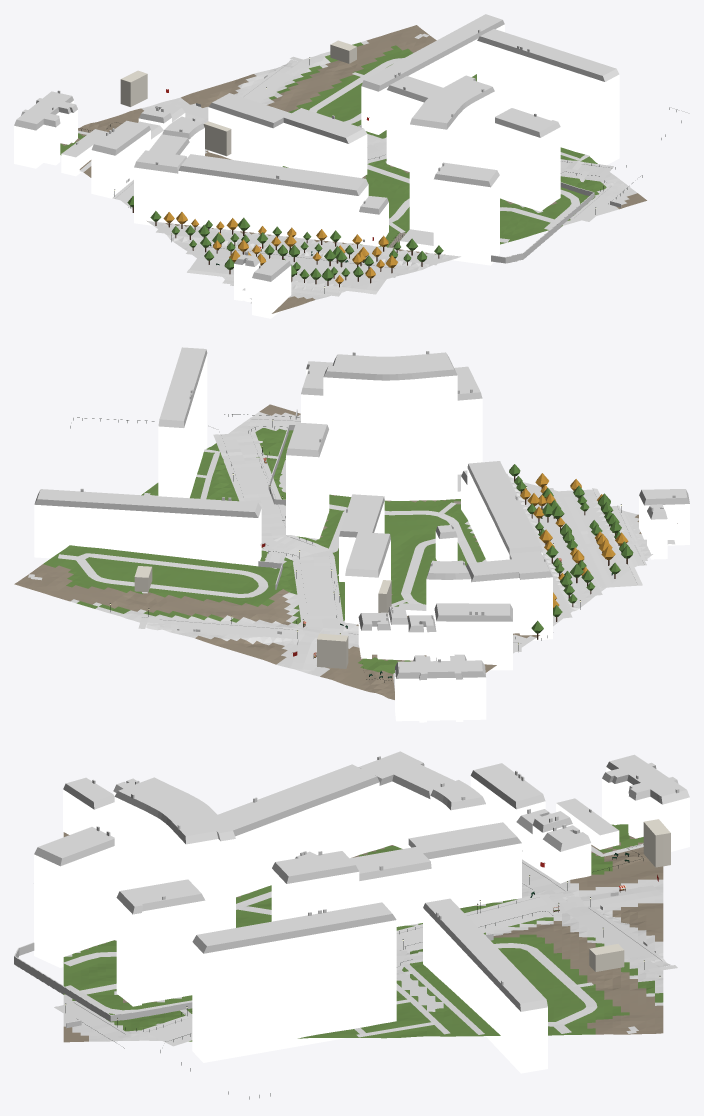
Rendered from zone_H3.glb.
3 views of the same model, one above another, from view 1: azimuth 30°, elevation 25°; view 2: azimuth 150°, elevation 25°; view 3: azimuth 270°, elevation 25° (orthographic). The views are drawn at different scales.
Parts seen in each view (by area): view 1: zone_H3_batiments, zone_H3_terrain, zone_H3_sol_NOCOL, zone_H3_decor_NOCOL; view 2: zone_H3_batiments, zone_H3_terrain, zone_H3_sol_NOCOL, zone_H3_decor_NOCOL; view 3: zone_H3_batiments, zone_H3_terrain, zone_H3_sol_NOCOL.
Part boxes in pixels (bbox=[...]): zone_H3_batiments: bbox=[14, 14, 621, 318]; zone_H3_terrain: bbox=[60, 25, 646, 313]; zone_H3_sol_NOCOL: bbox=[78, 33, 629, 303]; zone_H3_decor_NOCOL: bbox=[80, 57, 681, 293]; zone_H3_batiments: bbox=[34, 347, 689, 722]; zone_H3_terrain: bbox=[14, 404, 667, 699]; zone_H3_sol_NOCOL: bbox=[28, 417, 674, 690]; zone_H3_decor_NOCOL: bbox=[70, 414, 633, 682]; zone_H3_batiments: bbox=[14, 751, 689, 1073]; zone_H3_terrain: bbox=[63, 824, 663, 1042]; zone_H3_sol_NOCOL: bbox=[33, 843, 677, 1046].
Size of the model in its own units: 279 by 68.5 by 240.
